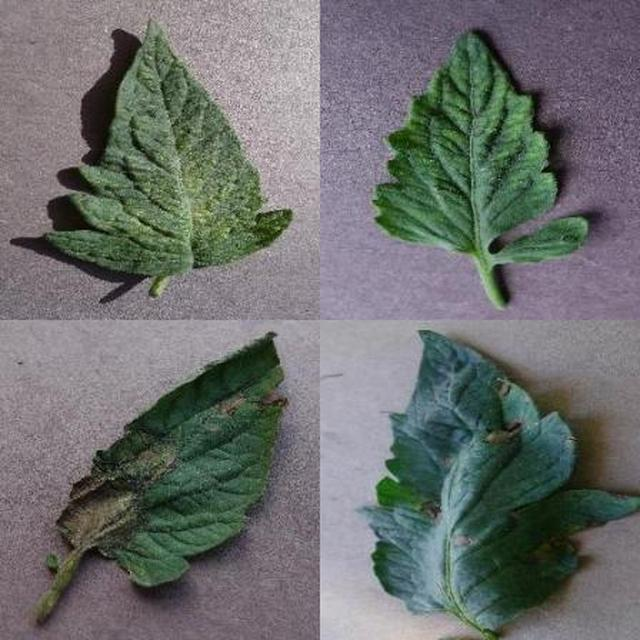Spider Mites Leaf: (242, 207, 640, 640)
